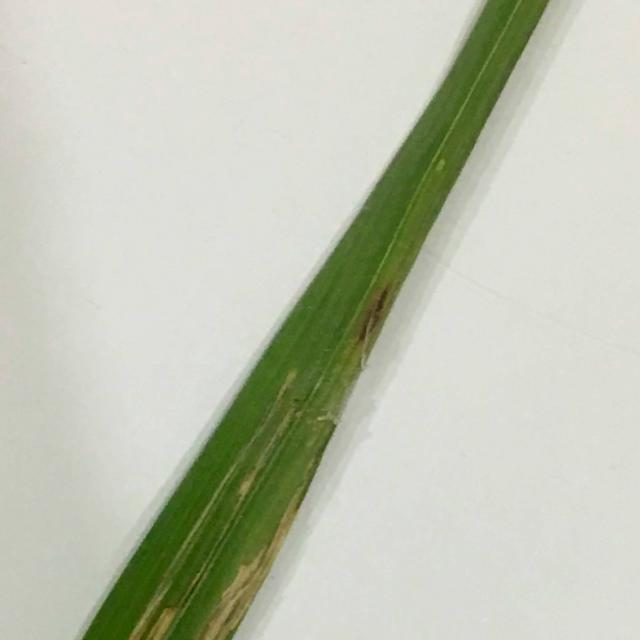brownspots: (344, 276, 405, 352)
